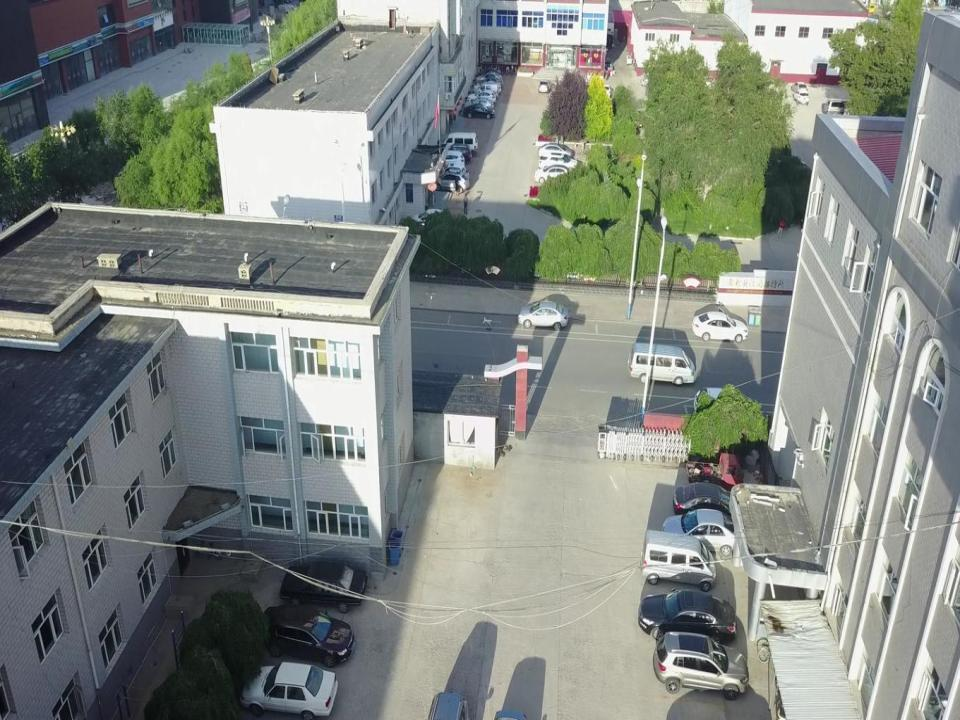car: (653, 632, 749, 700), (259, 604, 355, 668), (240, 661, 338, 720), (638, 588, 737, 645), (279, 561, 368, 613), (661, 509, 751, 556), (673, 482, 759, 522), (692, 306, 748, 342), (693, 388, 755, 419), (517, 300, 569, 330), (407, 208, 454, 236), (480, 226, 506, 273), (432, 168, 470, 193), (534, 164, 579, 185), (539, 152, 578, 172), (421, 247, 442, 283), (429, 150, 465, 171), (433, 163, 469, 183), (436, 144, 472, 164), (450, 235, 470, 269), (562, 244, 580, 280), (531, 244, 550, 278), (538, 143, 573, 160), (464, 97, 494, 114), (473, 77, 501, 95), (462, 103, 495, 118), (476, 72, 503, 88), (468, 90, 496, 103), (690, 76, 712, 92), (476, 67, 503, 80), (793, 88, 809, 105), (538, 79, 552, 94), (597, 83, 611, 98), (791, 81, 808, 93), (640, 72, 653, 86)
van: (640, 530, 716, 592), (628, 343, 696, 385), (441, 132, 479, 155), (823, 98, 853, 117), (475, 82, 499, 99)
